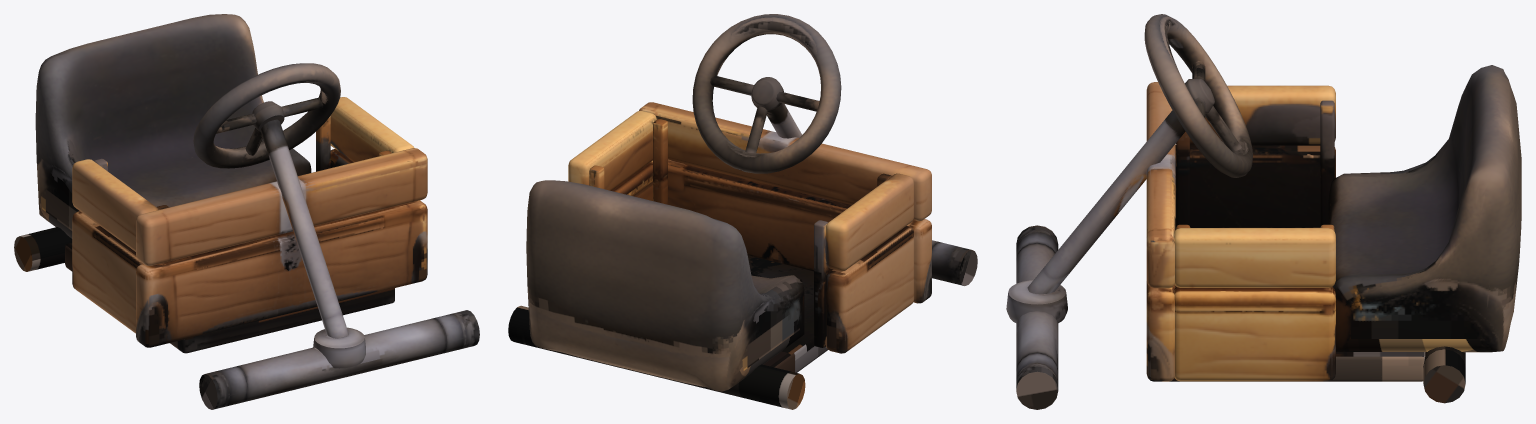
The picture shows the model from 3 angles, left to right: view 1: azimuth 30°, elevation 25°; view 2: azimuth 150°, elevation 25°; view 3: azimuth 270°, elevation 25°; orthographic projection. The views are drawn at different scales.
Visible parts, largest first — view 1: body, steering_wheel; view 2: body, steering_wheel; view 3: body, steering_wheel.
Part boxes in pixels (box(x1,y1,x2,y2)): body: box(14, 14, 479, 409); steering_wheel: box(193, 63, 340, 168); body: box(508, 102, 977, 409); steering_wheel: box(692, 14, 841, 173); body: box(1006, 65, 1521, 409); steering_wheel: box(1144, 14, 1252, 177).
Bounding box in the file's own units: 0.8 × 0.7355 × 1.1.
1 material, 1 textured.
